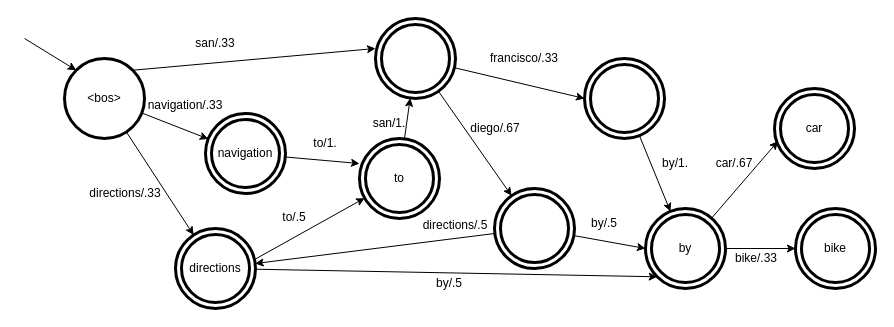
This 894x327 diagram has some shape labels left out. Here are the shapes that lost their labels. From the top down, the box of each, then its label:
(374, 16, 456, 100): san
(582, 56, 666, 140): francisco
(492, 186, 576, 270): diego
